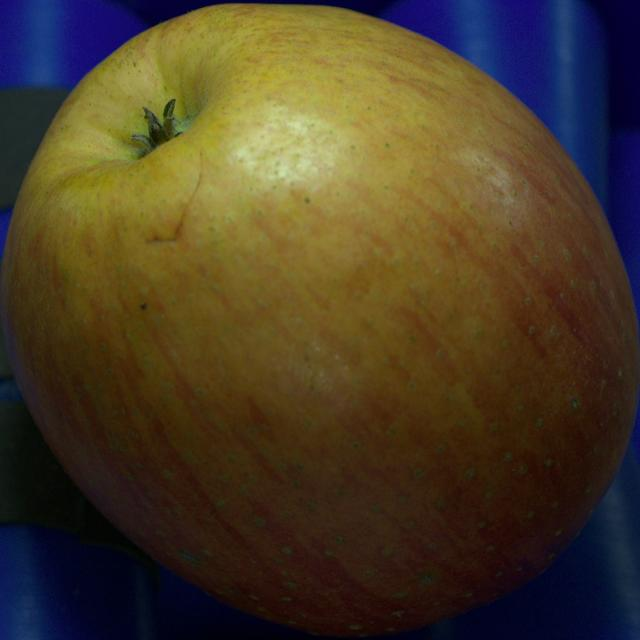apple: (0, 5, 639, 636)
pest: (141, 303, 146, 309)
scratch: (147, 150, 205, 244)
